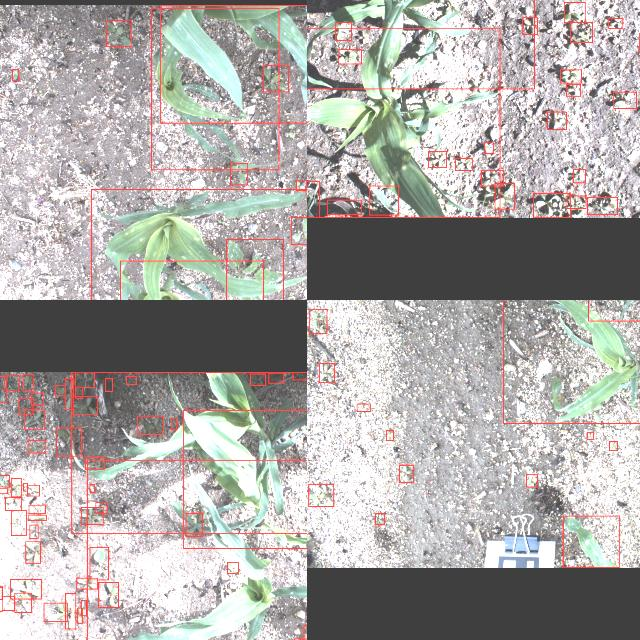crop: (86, 460, 307, 640), (70, 372, 307, 534), (307, 28, 499, 218), (90, 189, 307, 300), (152, 8, 278, 170), (307, 0, 533, 89), (159, 5, 307, 123), (182, 409, 307, 548), (502, 300, 640, 423), (119, 260, 262, 300), (562, 516, 618, 568), (368, 187, 398, 216), (327, 200, 361, 216), (307, 182, 319, 218)
weed: (225, 239, 282, 300), (532, 193, 570, 217), (262, 65, 288, 91), (56, 428, 80, 456), (9, 579, 41, 599), (106, 20, 130, 46), (90, 546, 108, 580), (308, 484, 334, 506), (587, 197, 617, 215), (494, 183, 514, 209), (98, 582, 118, 608), (290, 217, 307, 245), (570, 22, 592, 42), (44, 602, 66, 622), (138, 416, 162, 434), (72, 396, 96, 414), (10, 510, 26, 536), (564, 2, 584, 22), (23, 409, 43, 429), (612, 92, 636, 108), (185, 512, 201, 536), (310, 309, 326, 333), (230, 163, 247, 185), (481, 170, 504, 186), (546, 112, 566, 130), (65, 593, 75, 629), (14, 593, 32, 613), (80, 508, 102, 524), (74, 372, 94, 388), (24, 542, 40, 562), (338, 50, 360, 64), (318, 363, 334, 382), (427, 152, 445, 168), (335, 22, 351, 40), (398, 465, 412, 483), (565, 196, 585, 208), (560, 70, 580, 82), (65, 378, 73, 408), (85, 457, 104, 469), (522, 18, 536, 34), (18, 398, 32, 414), (4, 374, 18, 390), (454, 158, 472, 170), (27, 440, 45, 452), (76, 578, 96, 588), (4, 498, 20, 510), (10, 478, 20, 497), (2, 597, 15, 611), (22, 374, 32, 391), (566, 84, 580, 96), (249, 374, 265, 384), (268, 372, 284, 382), (28, 504, 44, 514), (572, 170, 584, 182), (226, 562, 238, 574), (30, 393, 42, 405), (27, 484, 39, 496), (608, 18, 622, 28), (0, 375, 5, 402), (95, 502, 106, 514), (292, 372, 307, 380), (526, 475, 536, 487), (29, 525, 37, 539), (483, 142, 492, 154), (27, 514, 45, 520), (356, 404, 369, 412), (296, 180, 306, 190), (55, 385, 65, 395), (374, 514, 384, 524), (0, 475, 8, 487), (80, 600, 86, 616), (76, 608, 82, 624), (74, 387, 82, 398), (105, 378, 112, 390), (126, 376, 136, 384), (12, 68, 18, 80), (609, 442, 617, 451), (170, 418, 176, 429), (586, 432, 594, 440), (386, 430, 392, 440), (88, 484, 94, 492), (23, 483, 27, 491), (0, 488, 6, 493)
